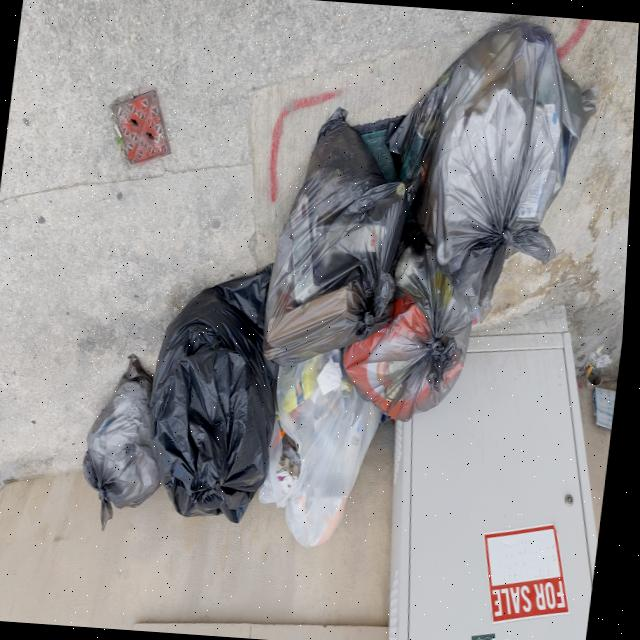Mixed Waste -Black Bag-: (396, 12, 596, 291), (143, 258, 296, 523), (263, 107, 420, 363), (343, 234, 484, 426), (85, 355, 165, 511)
Organic Waste -White Bag-: (258, 356, 390, 554)
